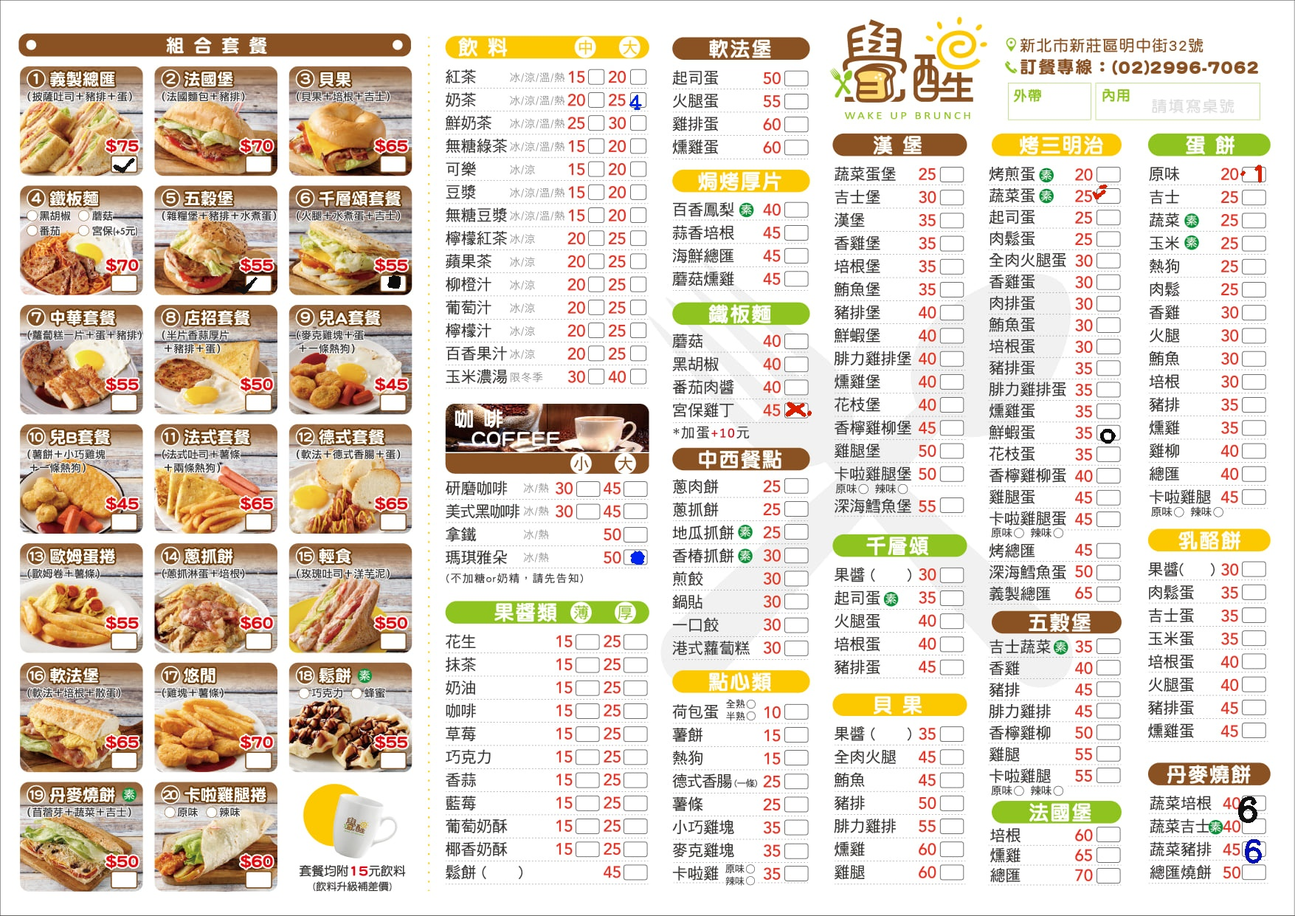marked_circle: (381, 276, 405, 292), (625, 550, 649, 565)
marked_hollow: (1096, 427, 1119, 442)
marked_number_1: (1243, 169, 1267, 185)
marked_number_4: (629, 92, 645, 106)
marked_number_6: (1241, 842, 1265, 858), (1243, 797, 1266, 813)
marked_tick: (245, 276, 269, 292), (111, 155, 135, 171), (1097, 187, 1120, 202)
marked_x: (785, 403, 809, 419)
